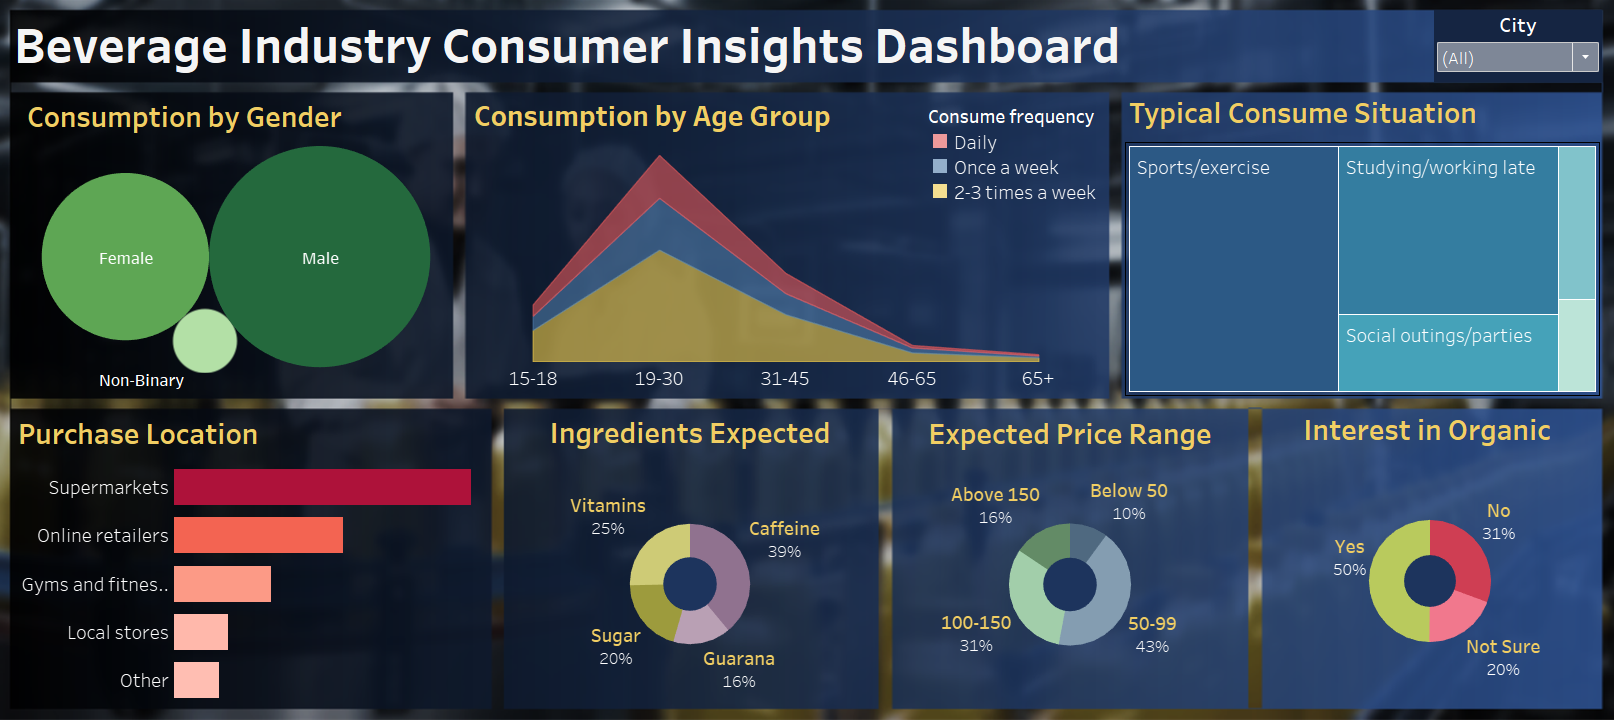

What the dashboard file says about the page in this screenshot:
{"tool":"tableau","page":{"name":"Beverage Industry Insights","canvas":[1650,745],"ordinal":0},"visuals":[{"type":"image","param":"Image/resize-17207892111047536682Darknew.png","box":[8,8,1634,729]},{"type":"text","box":[28,21,1125,71]},{"type":"filter","title":"Consumption by Gender","param":"[federated.0u73ljb0ovk89u1ahplis0u99e4v].[none:City:nk]","box":[1452,23,168,72]},{"type":"worksheet","title":"Typical Consume Situation","mark":"Automatic","box":[1143,102,475,307]},{"type":"worksheet","title":"Consumption by Age Group","mark":"Area","rows":["Consume_frequency"],"cols":["Age"],"box":[488,105,633,299]},{"type":"worksheet","title":"Consumption by Gender","mark":"Circle","box":[41,106,426,280]},{"type":"legend","title":"Consumption by Age Group","param":"[federated.0u73ljb0ovk89u1ahplis0u99e4v].[none:Consume_frequency:nk]","box":[946,116,173,101]},{"type":"text","box":[113,378,89,30]},{"type":"worksheet","title":"Interest in Organic or Inorganic","mark":"Pie","rows":["Calculation_571112766666612739","Calculation_571112766666612739"],"box":[1278,419,340,297]},{"type":"worksheet","title":"Ingredients Expected","mark":"Pie","rows":["Calculation_571112766654140417","Calculation_571112766654140417"],"box":[521,422,374,297]},{"type":"worksheet","title":"Purchase Location","mark":"Automatic","rows":["Purchase_location"],"cols":["Respondent_ID"],"box":[32,423,472,294]},{"type":"worksheet","title":"Price Range Expected","mark":"Pie","rows":["Calculation_424745778486153223","Calculation_424745778486153223"],"box":[911,423,354,296]}]}

Visuals, with their boxes in screenshot pixels (x1, y1, x2, y2), scaled from the page's 1650x745 canvas onto the 1614x720 screenshot:
image: l=8, t=8, r=1606, b=712
text: l=27, t=20, r=1128, b=89
"Consumption by Gender" filter: l=1420, t=22, r=1585, b=92
"Typical Consume Situation" worksheet: l=1118, t=99, r=1583, b=395
"Consumption by Age Group" worksheet (Area marks): l=477, t=101, r=1097, b=390
"Consumption by Gender" worksheet (Circle marks): l=40, t=102, r=457, b=373
"Consumption by Age Group" legend: l=925, t=112, r=1095, b=210
text: l=111, t=365, r=198, b=394
"Interest in Organic or Inorganic" worksheet (Pie marks): l=1250, t=405, r=1583, b=692
"Ingredients Expected" worksheet (Pie marks): l=510, t=408, r=875, b=695
"Purchase Location" worksheet: l=31, t=409, r=493, b=693
"Price Range Expected" worksheet (Pie marks): l=891, t=409, r=1237, b=695
